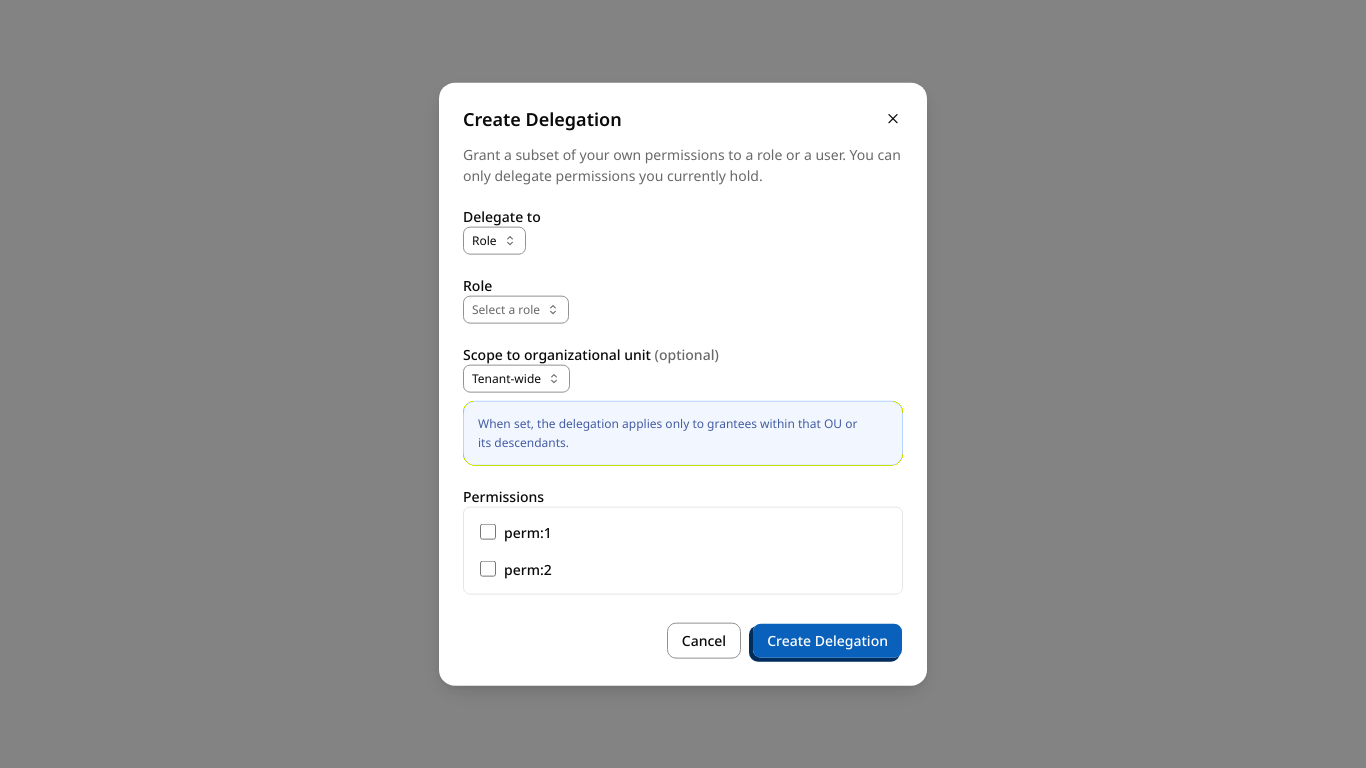
CreateDelegationModal grantee pickers › states the failure without a total when even the first page fails
Click the dropdown labelled "Role" at point(494, 240), box [463,226,526,254]
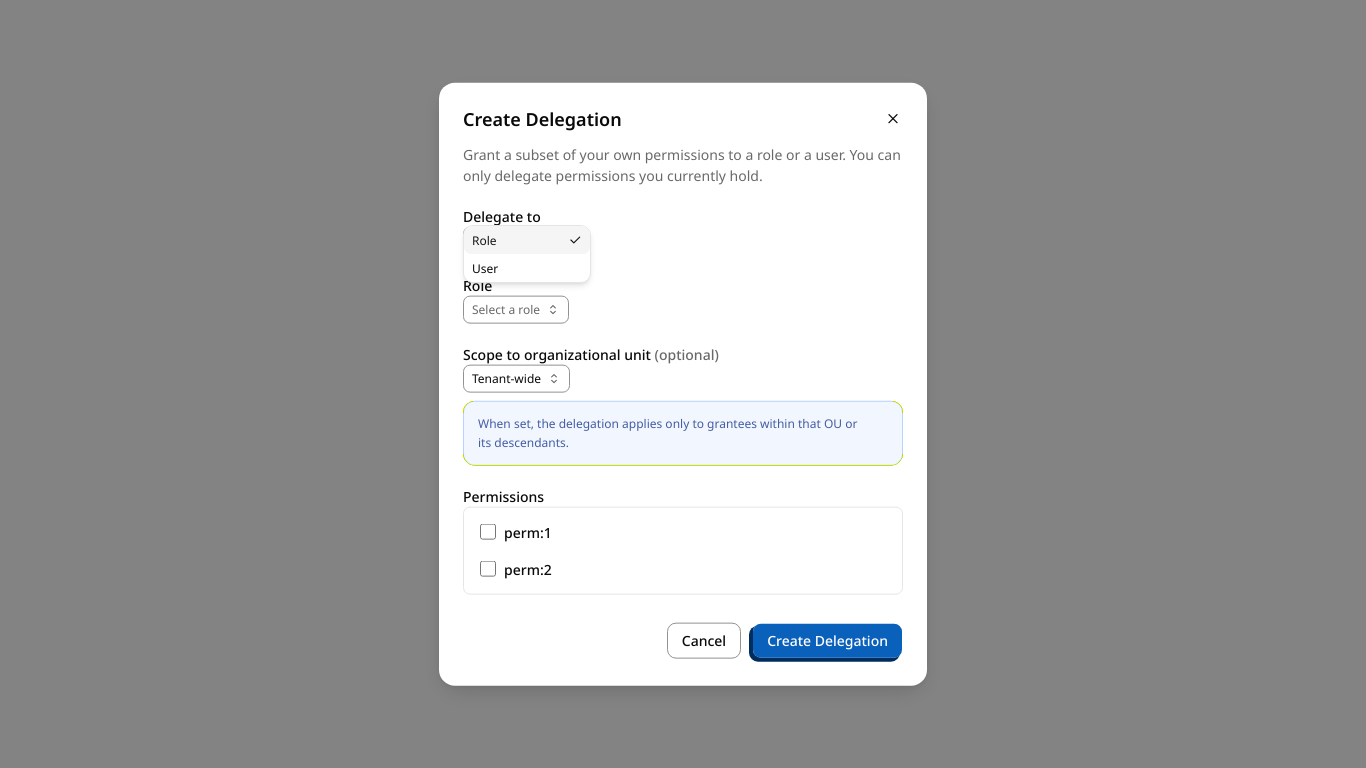
Click the option "User" at point(485, 268), box [472,260,498,277]
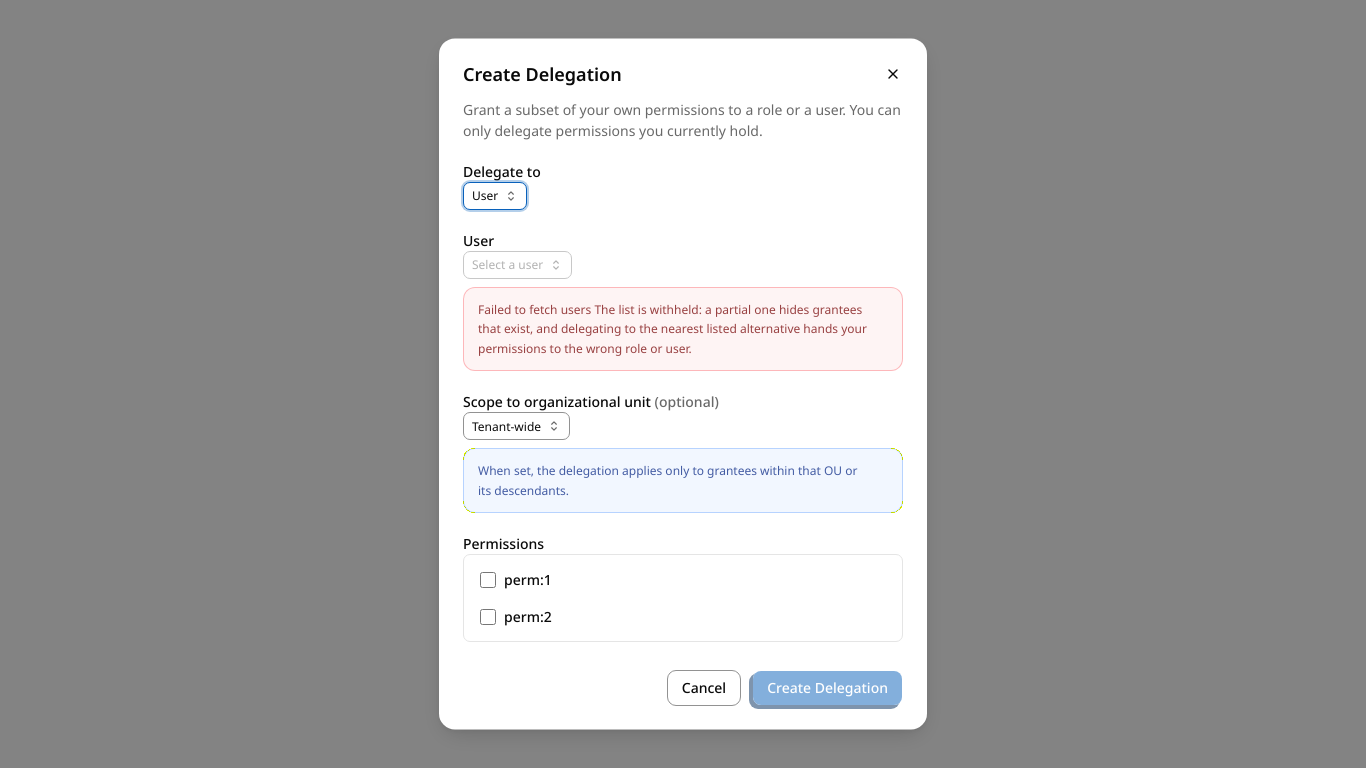
Check: the text "Failed to fetch users" is shown, box [478,301,591,318]
Check: the dropdown labelled "Select a user" is disabled, box [463,251,572,279]
Check: the button "Create Delegation" is disabled, box [752,671,903,707]
